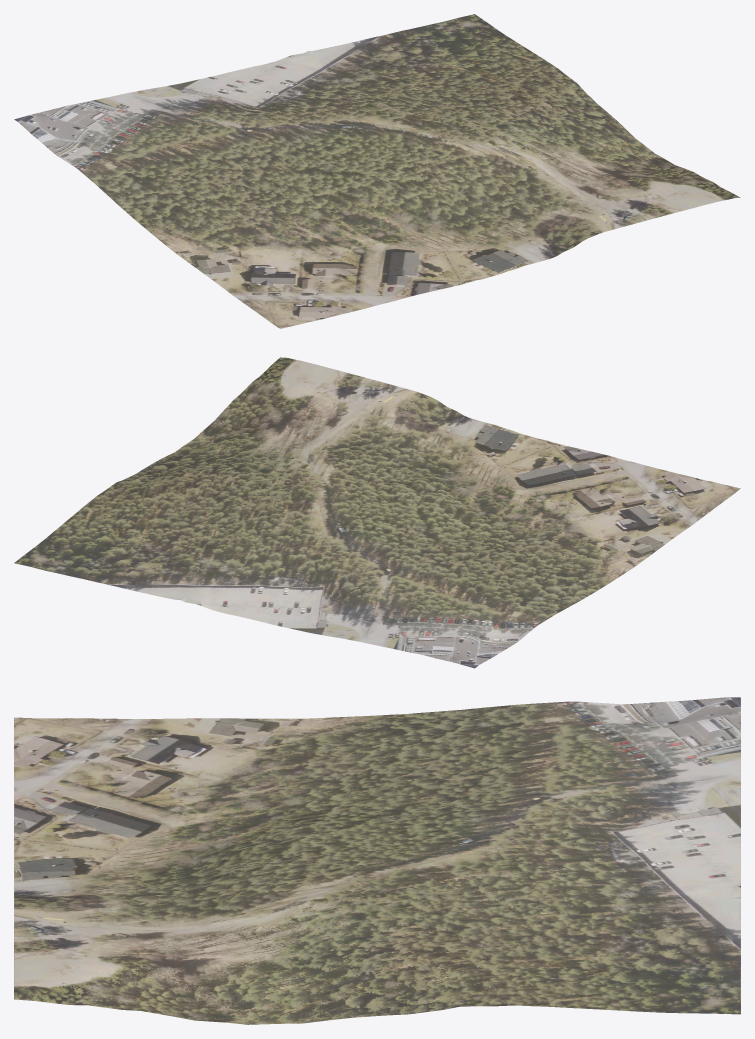
Rendered from CM_Terrain_24492711_6815084.fbx.
3 views of the same model, one above another, from view 1: azimuth 30°, elevation 25°; view 2: azimuth 150°, elevation 25°; view 3: azimuth 270°, elevation 25° (orthographic). The views are drawn at different scales.
Parts seen in each view (by area): view 1: CM_Terrain_24492711_6815084_LOD0; view 2: CM_Terrain_24492711_6815084_LOD0; view 3: CM_Terrain_24492711_6815084_LOD0.
Boxes of the visible parts, x1=… form: CM_Terrain_24492711_6815084_LOD0: x1=14, y1=14, x2=740, y2=328; CM_Terrain_24492711_6815084_LOD0: x1=14, y1=357, x2=740, y2=668; CM_Terrain_24492711_6815084_LOD0: x1=14, y1=697, x2=740, y2=1024.
Size of what is drawn, in the model's own units: 205 by 11.52 by 205.
